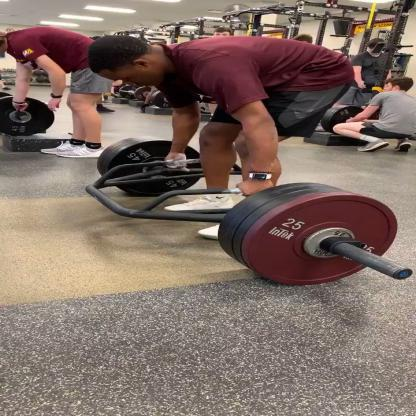Barbell: (206, 178, 414, 292)
